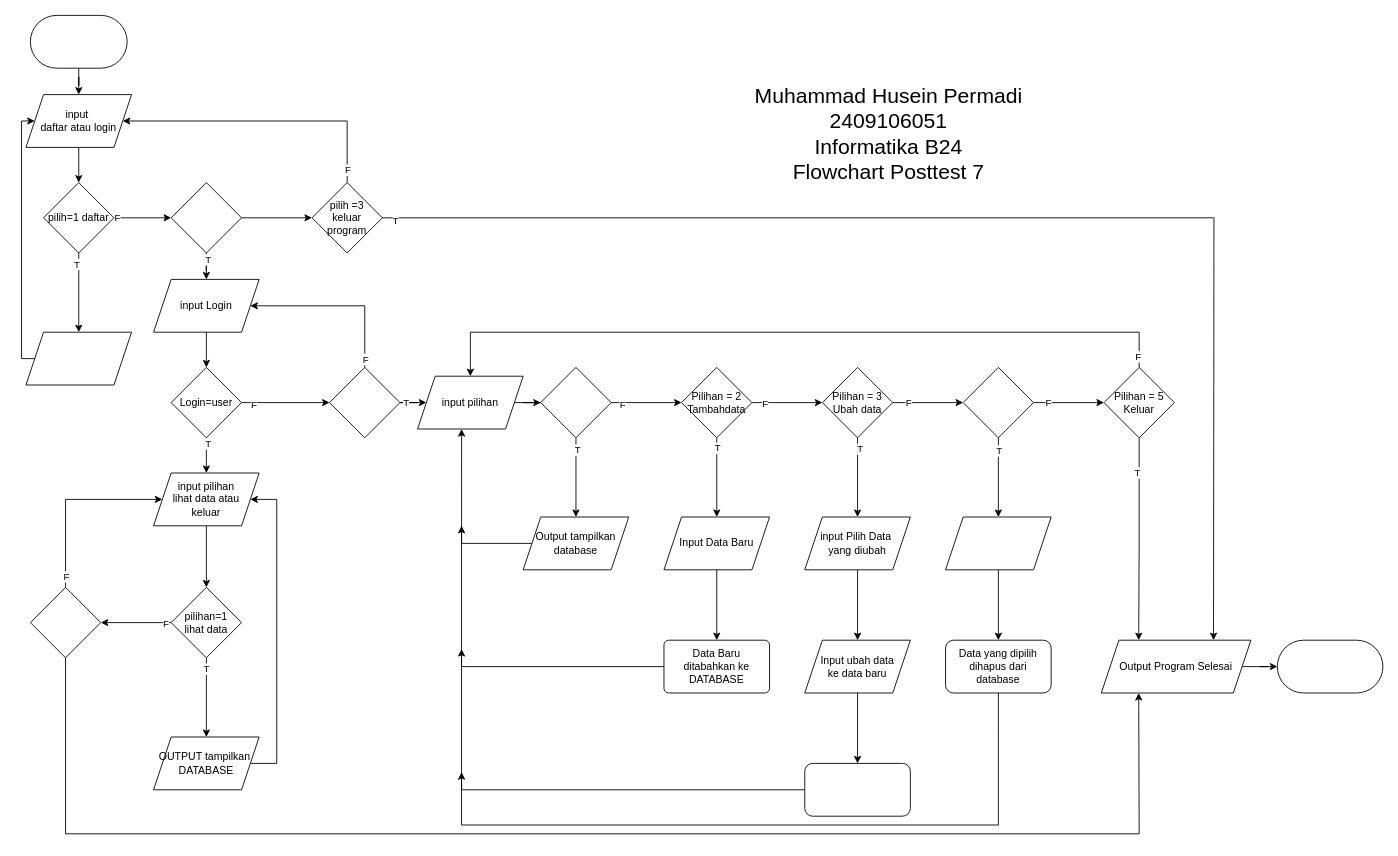
Image size: 1398x856. Some labels were removed from this diagram. The centre of each missing label's shape, as x and y in pixels:
"DATA Baru mengganti data lama di database" goes at (857,789).
"END" goes at (1329,666).
"input pilih data yang dihapus" goes at (998,543).
"input username dan password baru" goes at (78,358).
"Login=Admin" goes at (364,402).
"pilih 2 login" goes at (206,217).
"Pilihan = 1 lihat data" goes at (575,402).
"Pilihan = 4 Hapus data" goes at (998,402).
"Pilihan=2 keluar" goes at (65,622).
"START" goes at (78,41).
